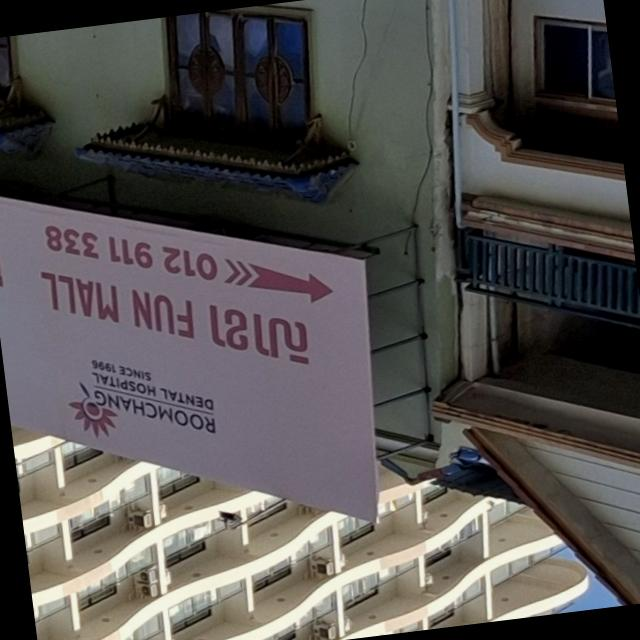Yolov11kh: (192, 286, 331, 379)
